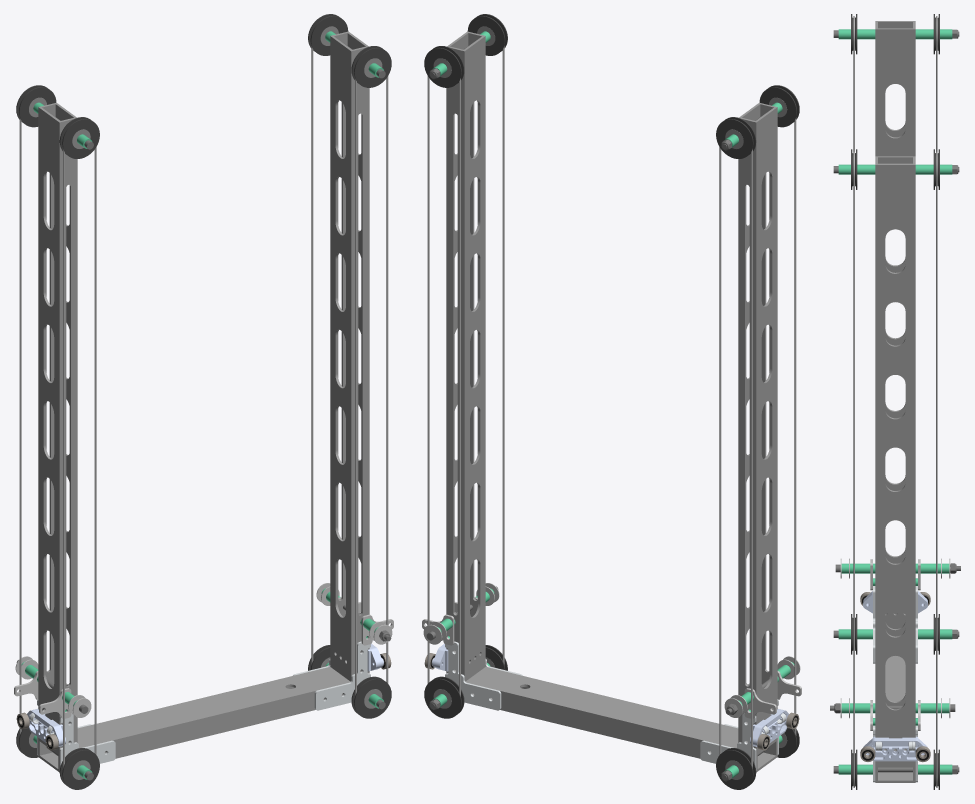
3 views of the same model, side by side, from view 1: azimuth 30°, elevation 25°; view 2: azimuth 150°, elevation 25°; view 3: azimuth 270°, elevation 25° (orthographic). The views are drawn at different scales.
Visible parts, largest first — view 1: Elevator Height Rail (×2), Elevator Width Rail, 71.4 in Cable (×4), Elevator Pulley (×6), am-3860 90 Gusset REV2 (×2), WCP-0897-001 Rev1; view 2: Elevator Height Rail (×2), Elevator Width Rail, 71.4 in Cable (×4), Elevator Pulley (×6), am-3860 90 Gusset REV2 (×2), WCP-0897-001 Rev1; view 3: Elevator Height Rail (×2), 71.4 in Cable (×4), Elevator Width Rail, WCP-0897-001 Rev1 (×2), 6 in, 1/4-20, Partially Threaded, Socket Head Screw (91251A0.
Part boxes in pixels (x1,y1,x2,y2): Elevator Height Rail (×2): (38, 31, 369, 753); Elevator Width Rail: (38, 667, 350, 772); 71.4 in Cable (×4): (19, 46, 388, 768); Elevator Pulley (×6): (16, 14, 391, 789); am-3860 90 Gusset REV2 (×2): (59, 641, 370, 770); WCP-0897-001 Rev1: (27, 709, 65, 746); Elevator Height Rail (×2): (446, 31, 777, 753); Elevator Width Rail: (465, 667, 777, 772); 71.4 in Cable (×4): (427, 46, 796, 768); Elevator Pulley (×6): (424, 14, 799, 789); am-3860 90 Gusset REV2 (×2): (445, 641, 756, 770); WCP-0897-001 Rev1: (750, 709, 788, 746); Elevator Height Rail (×2): (875, 21, 915, 764); 71.4 in Cable (×4): (853, 16, 937, 787); Elevator Width Rail: (875, 656, 915, 782); WCP-0897-001 Rev1 (×2): (863, 591, 927, 761); 6 in, 1/4-20, Partially Threaded, Socket Head Screw (91251A0: (833, 766, 959, 773).
Size of the model in its own units: 0.4915 by 0.8896 by 0.1657.
